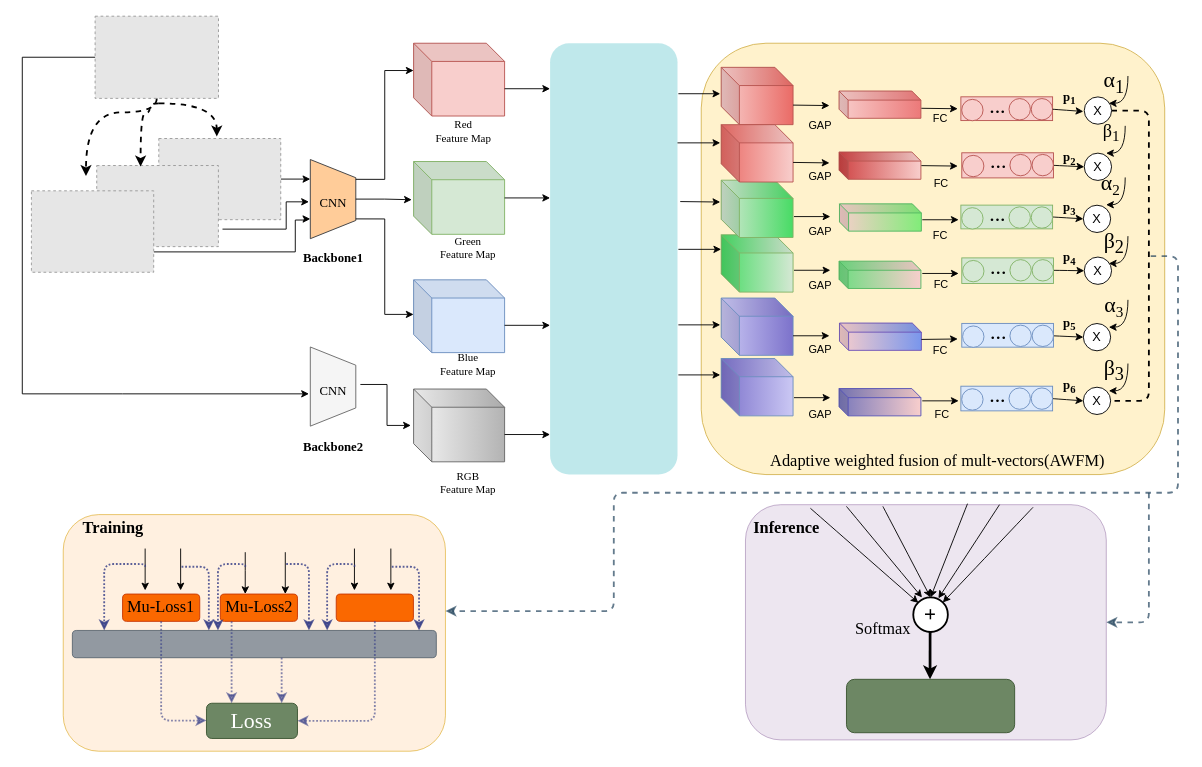
Some shapes in this 1202 by 767 pixel diagram are drawn without their labels. Grey dashed boxes stand in for pictures. Each missing label, with the centre of its shape:
"CELoss" goes at point (253, 644).
"Channel Self- Attention Fusion Module" goes at point (613, 258).
"classification" goes at point (930, 705).
"Mu-Loss3" goes at point (374, 607).
